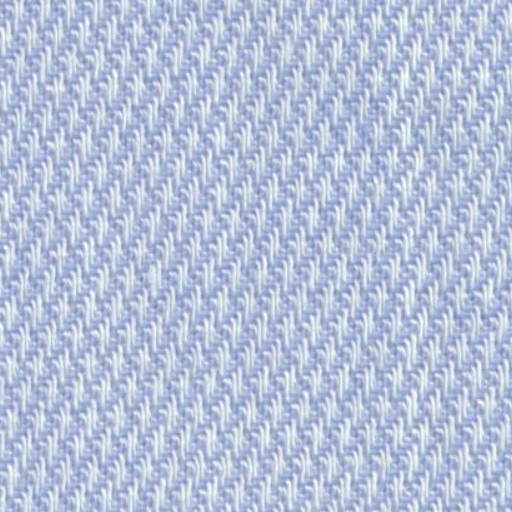TuoSha: (343, 18, 469, 490)
